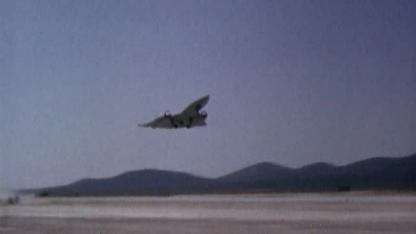Rafale: (138, 93, 210, 128)
